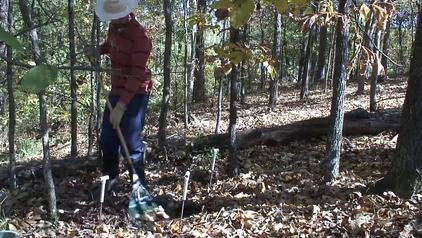down: (105, 84, 161, 196)
sit: (105, 84, 161, 196)
